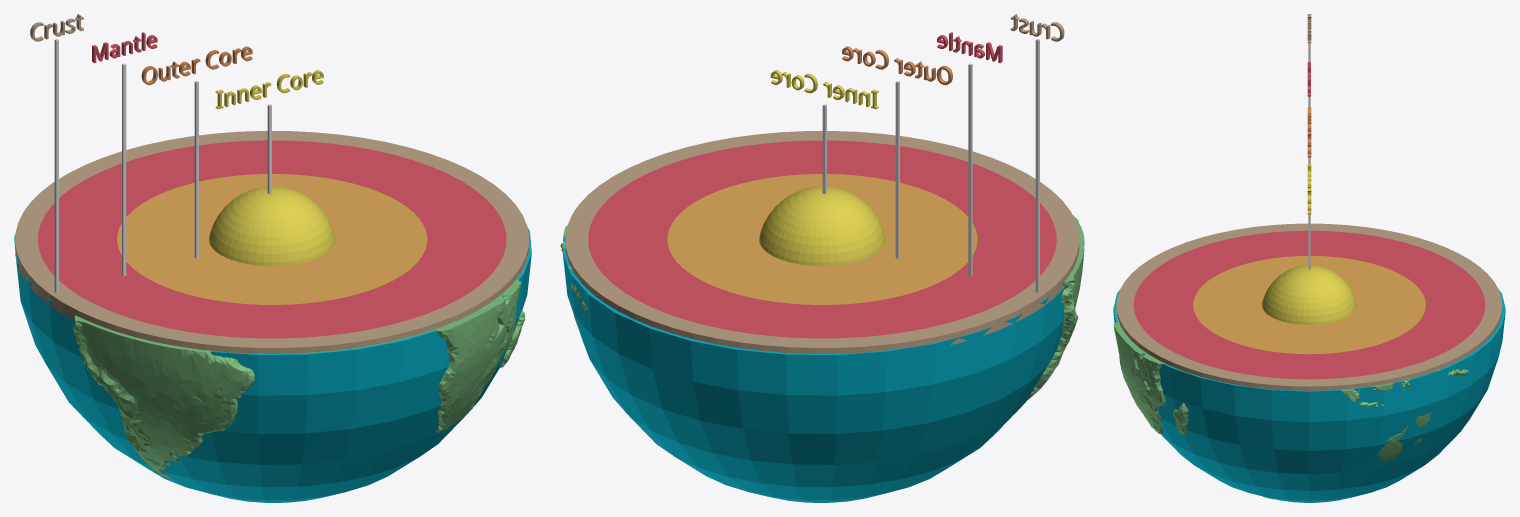
File: asset.glb
3 renders of one model, left to right at view 1: azimuth 30°, elevation 25°; view 2: azimuth 150°, elevation 25°; view 3: azimuth 270°, elevation 25°, orthographic. The views are drawn at different scales.
Parts seen in each view (by area): view 1: Mesh_Mesh_head_geo.001_lambert2SG.001; view 2: Mesh_Mesh_head_geo.001_lambert2SG.001; view 3: Mesh_Mesh_head_geo.001_lambert2SG.001.
Boxes of the visible parts, x1,y1,x2,y2 form: Mesh_Mesh_head_geo.001_lambert2SG.001: (14,14,531,502); Mesh_Mesh_head_geo.001_lambert2SG.001: (560,14,1084,502); Mesh_Mesh_head_geo.001_lambert2SG.001: (1113,14,1505,502).
Bounding box in the file's own units: 83.04 × 87.55 × 80.87.
